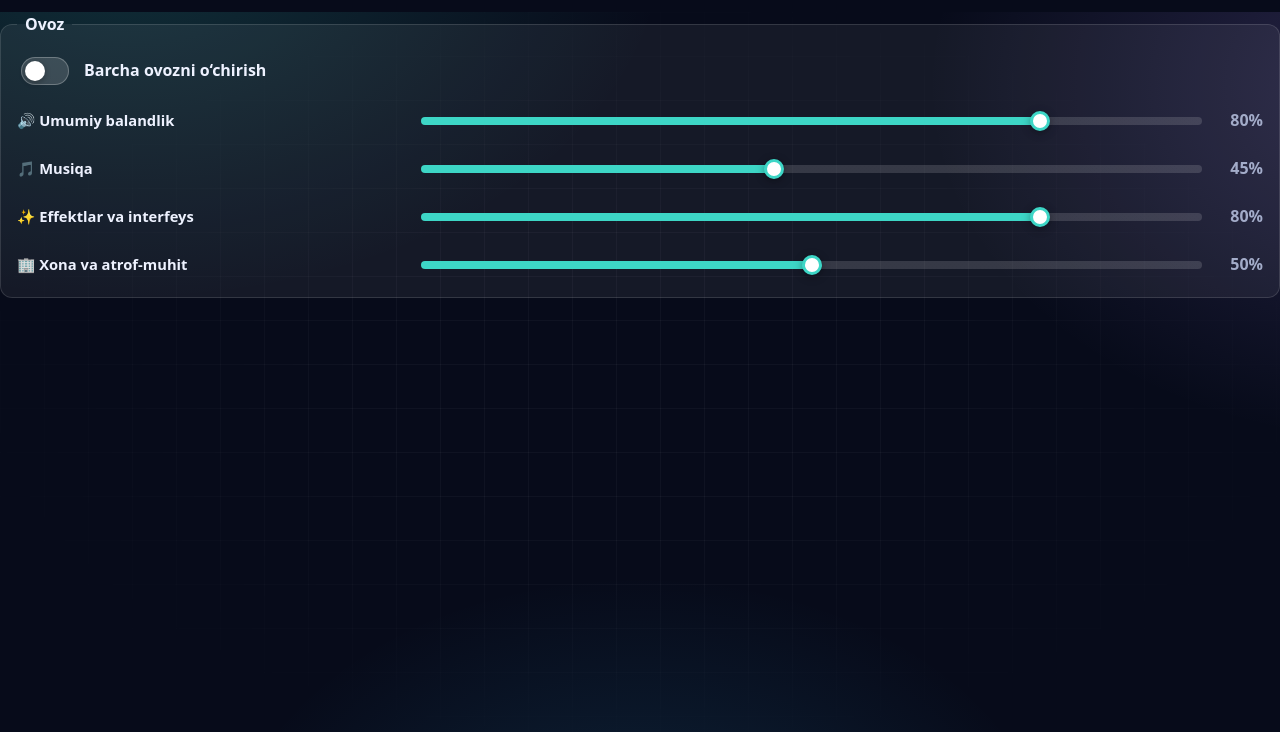
ovoz sozlamalari paneli › slayder balandlikni saqlaydi va AudioManager’ga uzatadi
Set the slider labelled "🎵 Musiqa" to "20": (582, 169) [421,165,1202,173]
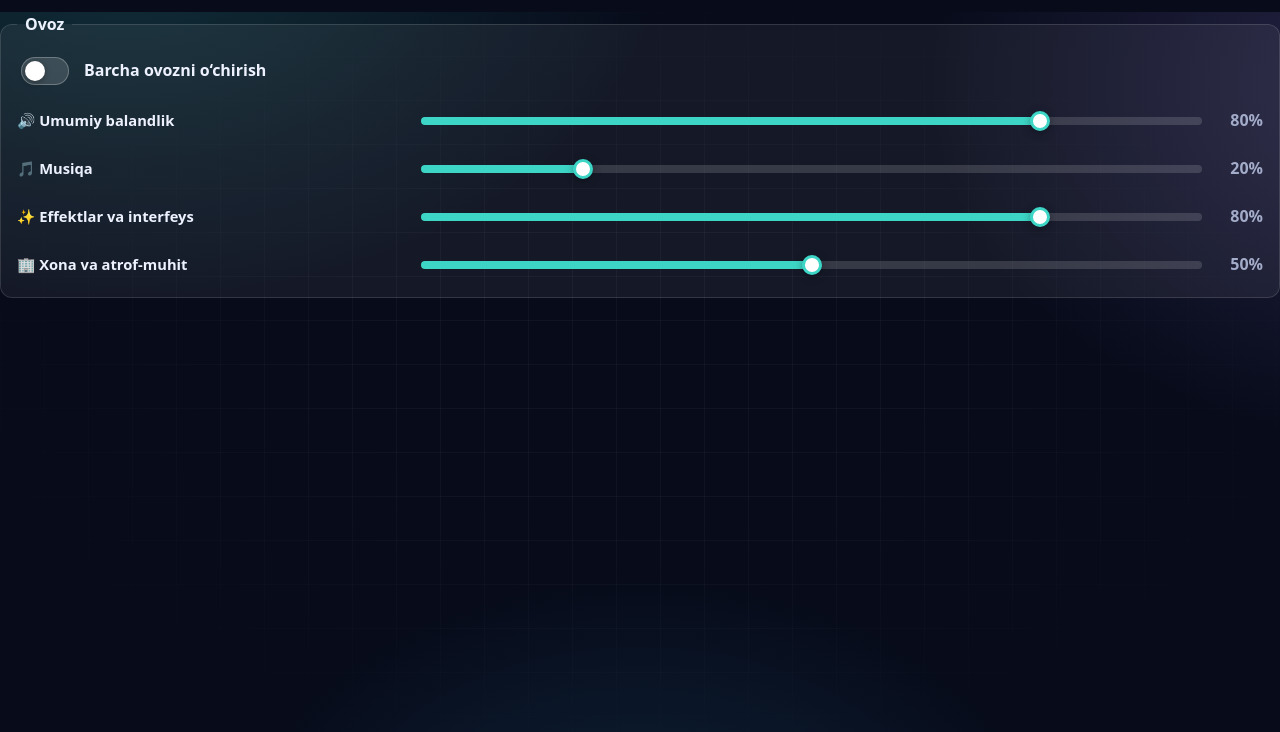
Check: the text "20%" is shown, box [1230,157,1263,179]
